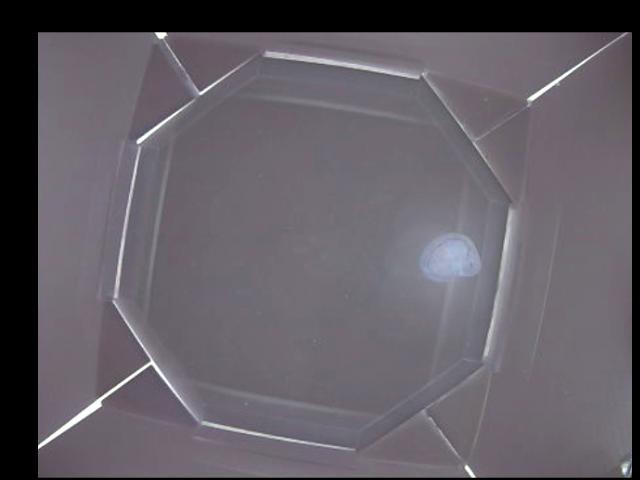Pebble: (421, 233, 480, 280)
